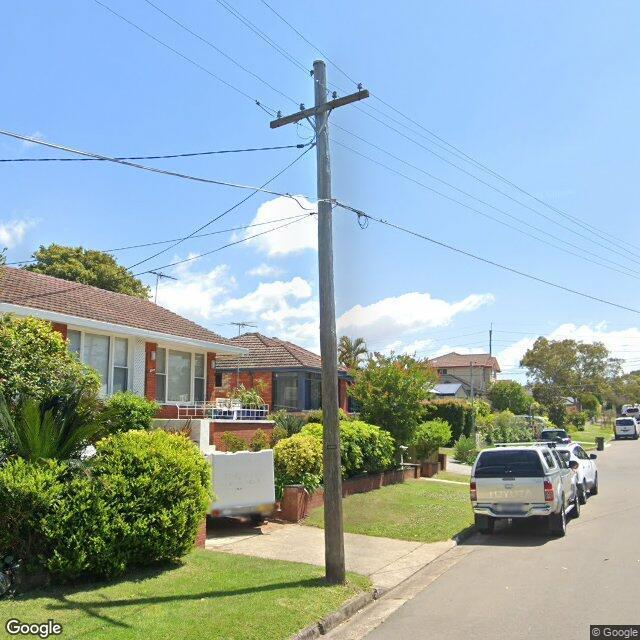crossarm: (270, 89, 370, 130)
timber-pole: (312, 61, 346, 583), (488, 322, 492, 358)
